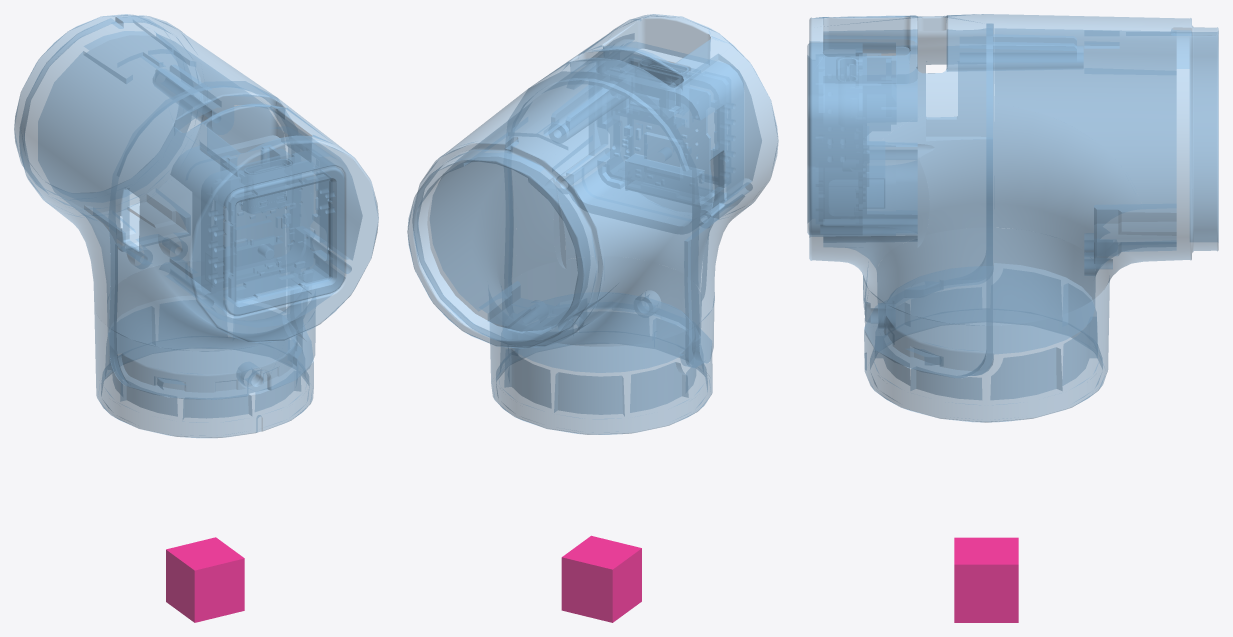
File: MyCobotPi_J5.gltf
3 views of the same model, side by side, from view 1: azimuth 30°, elevation 25°; view 2: azimuth 150°, elevation 25°; view 3: azimuth 270°, elevation 25° (orthographic). The views are drawn at different scales.
Parts seen in each view (by area): view 1: polySurface169, polySurface144, polySurface163, polySurface167, polySurface158, J5_Cube; view 2: polySurface169, polySurface144, polySurface158, J5_Cube, polySurface163; view 3: polySurface169, polySurface144, polySurface163, J5_Cube, polySurface158.
Boxes of the visible parts, box(x1,y1,x2,y2) form: polySurface169: box(14, 14, 313, 438); polySurface144: box(108, 65, 378, 399); polySurface163: box(206, 152, 344, 315); polySurface167: box(228, 174, 329, 301); polySurface158: box(212, 145, 313, 287); J5_Cube: box(166, 537, 244, 622); polySurface169: box(407, 71, 712, 434); polySurface144: box(508, 14, 778, 367); polySurface158: box(607, 58, 710, 204); J5_Cube: box(561, 535, 641, 622); polySurface163: box(597, 42, 733, 207); polySurface169: box(864, 14, 1218, 422); polySurface144: box(809, 14, 1083, 378); polySurface163: box(807, 43, 862, 234); J5_Cube: box(954, 537, 1018, 622); polySurface158: box(838, 53, 896, 208).
Bounding box in the file's own units: 0.0388 × 0.1001 × 0.0639.
